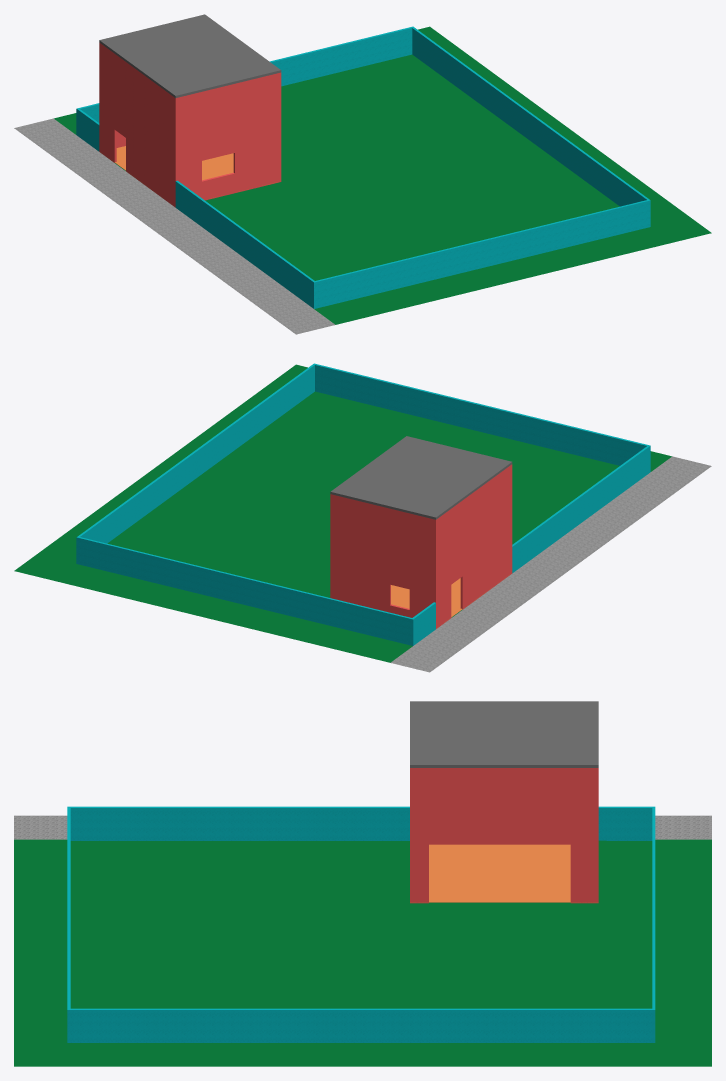
File: structure.glb
3 views of the same model, one above another, from view 1: azimuth 30°, elevation 25°; view 2: azimuth 150°, elevation 25°; view 3: azimuth 270°, elevation 25° (orthographic). The views are drawn at different scales.
Size of the model in its own units: 378 by 98 by 444.
7 materials, 7 textured.
